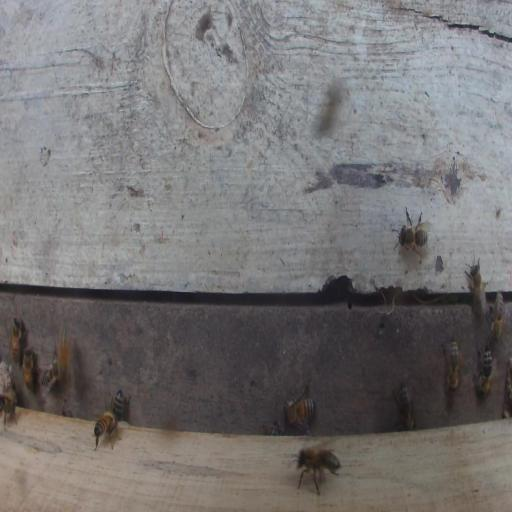bee: (294, 439, 341, 497), (391, 204, 432, 259), (464, 251, 485, 320), (283, 396, 316, 431), (392, 382, 415, 431), (93, 411, 119, 451), (442, 338, 461, 392), (473, 344, 492, 397), (489, 288, 504, 346), (40, 349, 59, 392), (11, 316, 26, 364), (59, 326, 71, 385), (0, 394, 18, 430), (22, 347, 36, 391), (111, 389, 127, 422), (262, 421, 282, 435)
